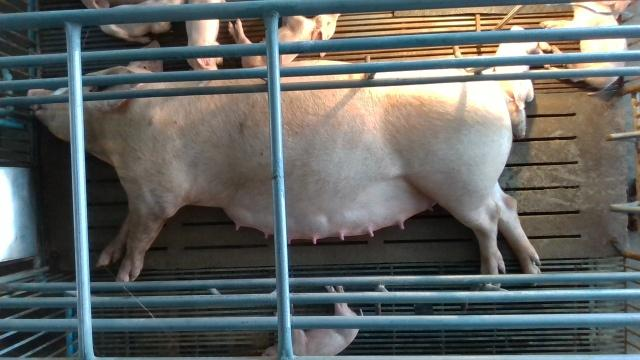piglet: (540, 0, 627, 96), (261, 286, 364, 356), (227, 14, 342, 68), (485, 26, 539, 140), (89, 0, 186, 44), (185, 0, 226, 70)
sow-sleep-lactate: (26, 40, 539, 282)
